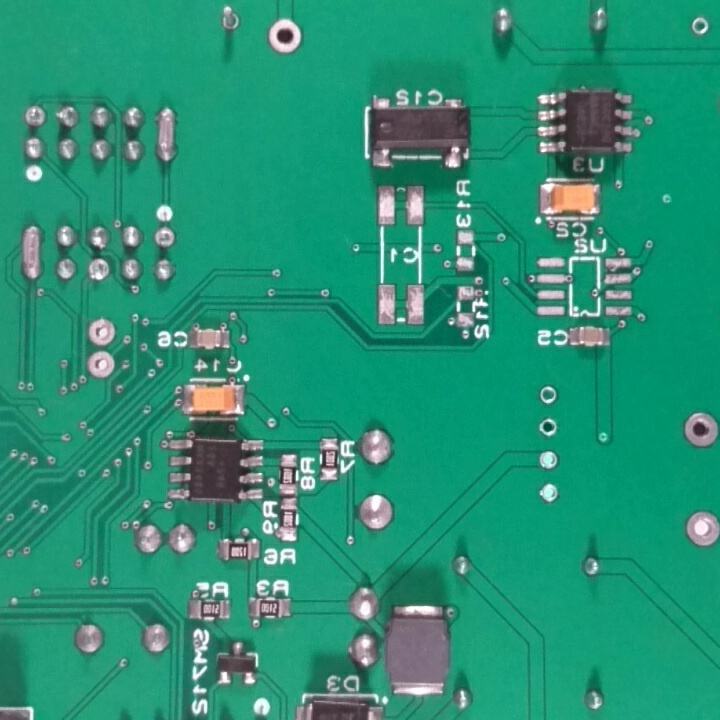F: (679, 409, 720, 448), (682, 509, 720, 549), (264, 18, 305, 55), (86, 316, 117, 349), (214, 4, 244, 34), (85, 352, 117, 380), (22, 101, 48, 133), (85, 255, 112, 282), (537, 481, 563, 505), (690, 13, 713, 38), (153, 224, 175, 249), (537, 447, 559, 472), (537, 415, 558, 438), (535, 386, 559, 406)
P: (19, 222, 46, 285), (155, 102, 181, 166)
